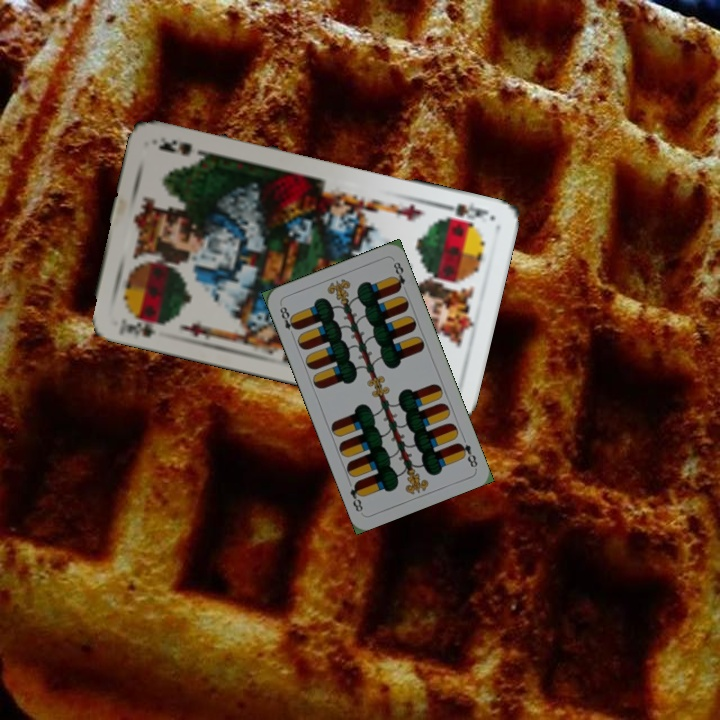E8: (276, 301, 300, 340), (453, 438, 480, 470)
SK: (435, 198, 491, 228), (122, 311, 171, 340)
